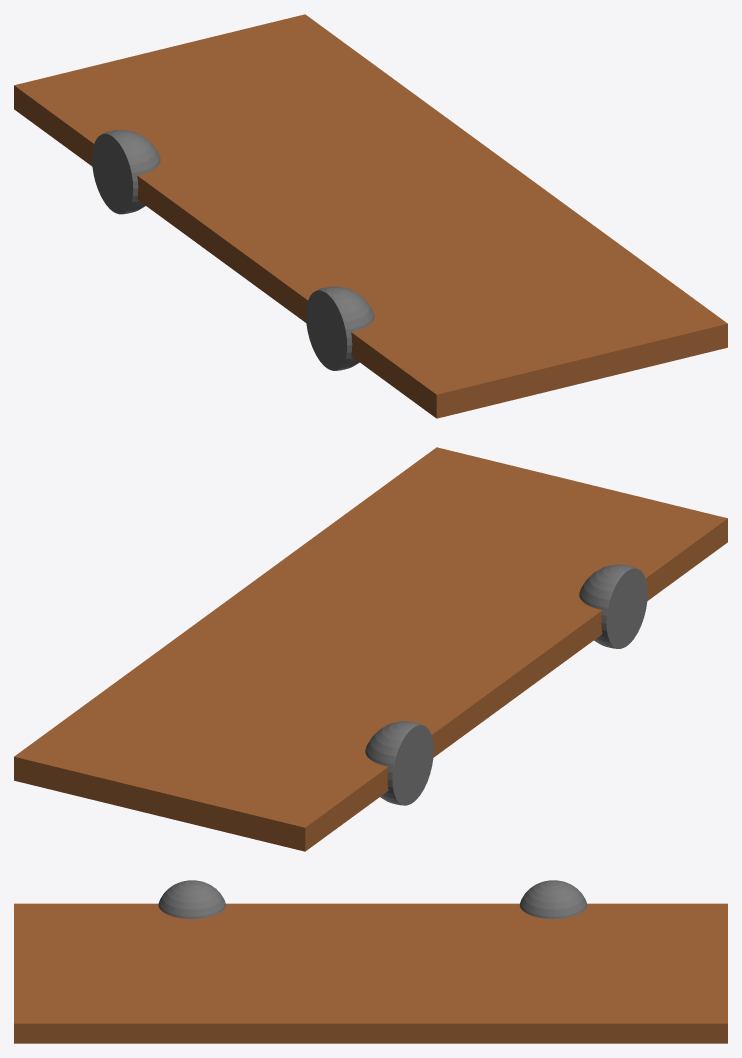
File: shelf.glb
3 renders of one model, top to bottom at view 1: azimuth 30°, elevation 25°; view 2: azimuth 150°, elevation 25°; view 3: azimuth 270°, elevation 25°, orthographic. The views are drawn at different scales.
Parts seen in each view (by area): view 1: Cube, Sphère.001, Sphère; view 2: Cube, Sphère.001, Sphère; view 3: Cube, Sphère.001, Sphère.
Part boxes in pixels (x1,y1,x2,y2): Cube: (14,14,727,418); Sphère.001: (92,130,160,214); Sphère: (306,286,374,370); Cube: (14,447,727,851); Sphère.001: (365,721,433,805); Sphère: (579,564,647,648); Cube: (14,903,727,1043); Sphère.001: (520,880,587,918); Sphère: (158,880,225,918).
Size of the model in its own units: 0.8084 by 0.2 by 2.
